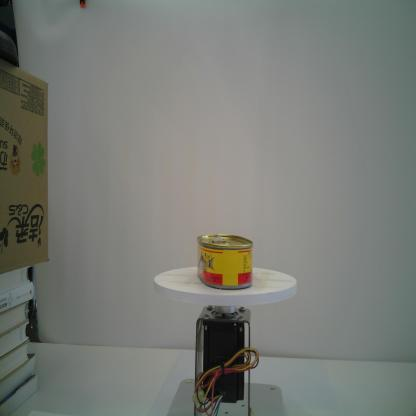Canned Food: (196, 233, 254, 290)
